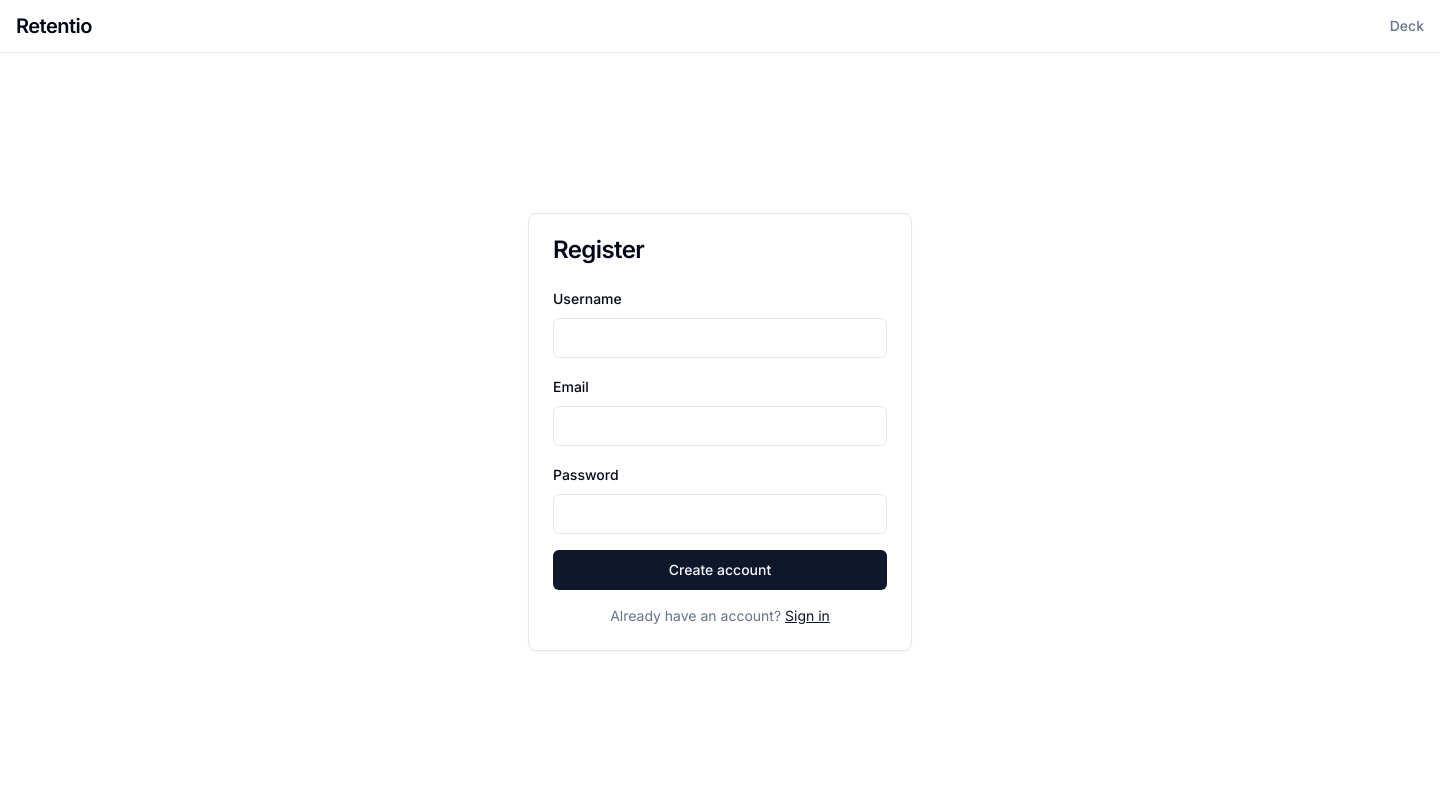
RegisterPage › shows an error message when registration fails
Step 1. Type "alice" into the field labelled "Username" → (720, 338), box [553,318,887,358]
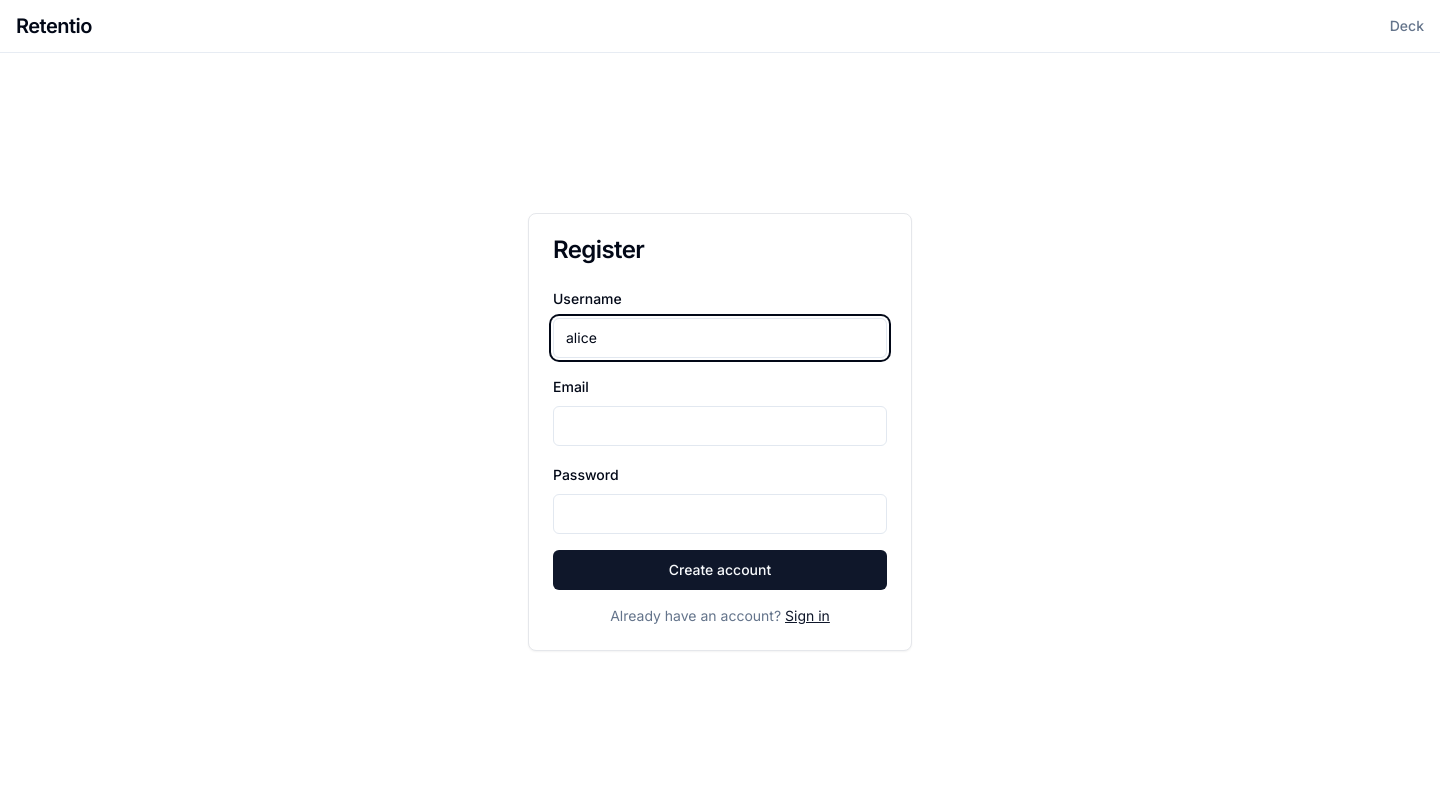
Step 2. Type "alice@example.com" into the field labelled "Email" → (720, 426), box [553,406,887,446]
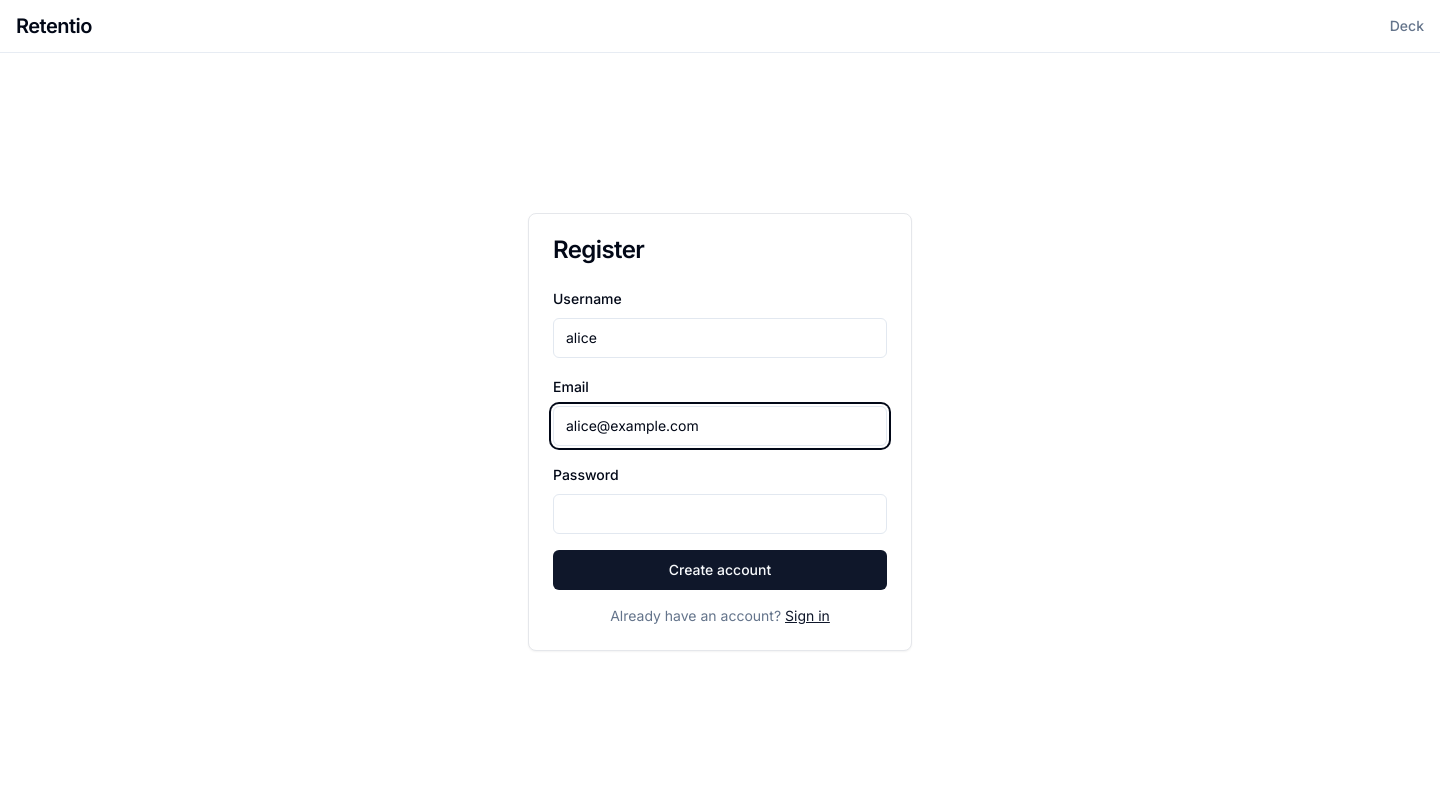
Step 3. Type "secret12" into the password field labelled "Password" → (720, 514), box [553,494,887,534]
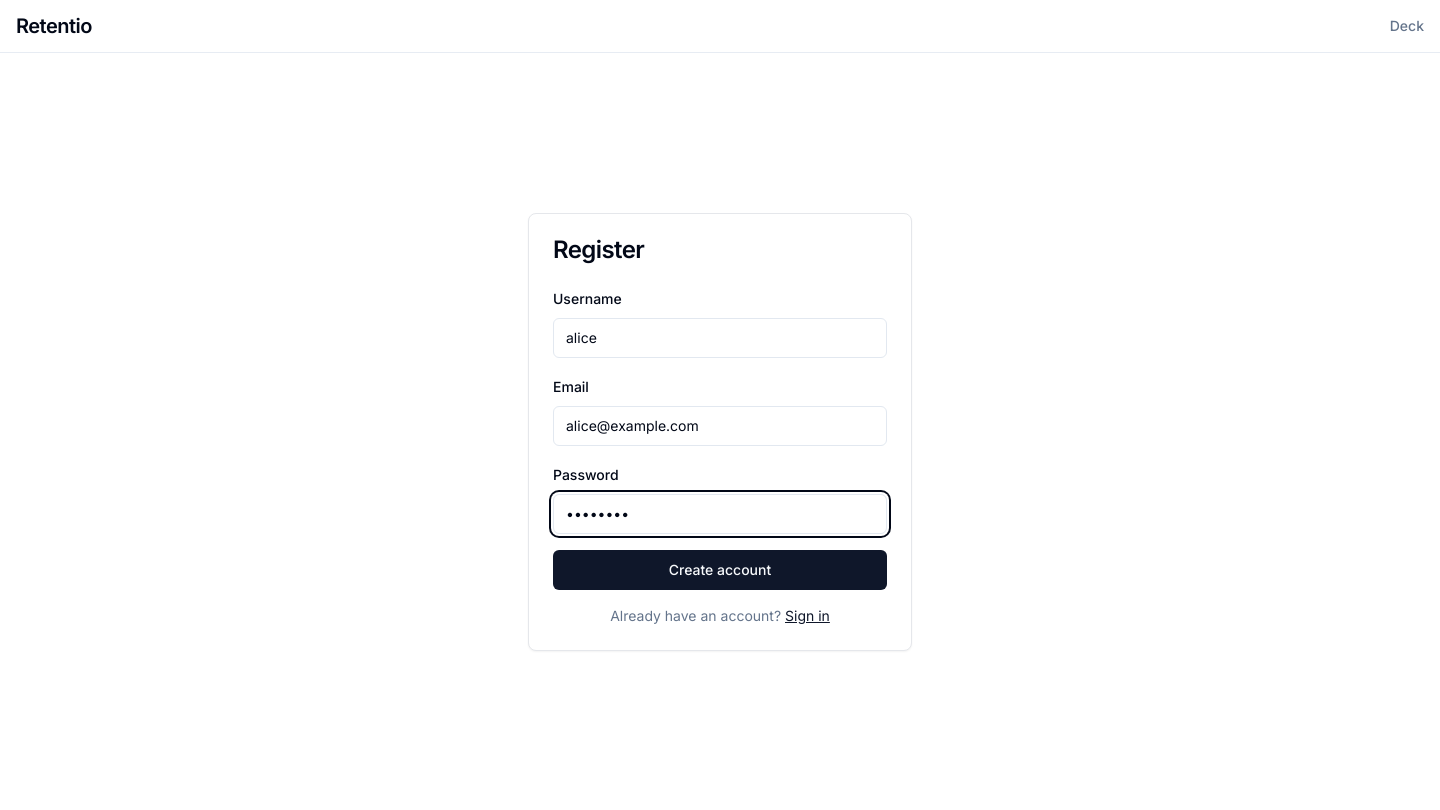
Step 4. Click the button "Create account" → (720, 570), box [553,550,887,590]
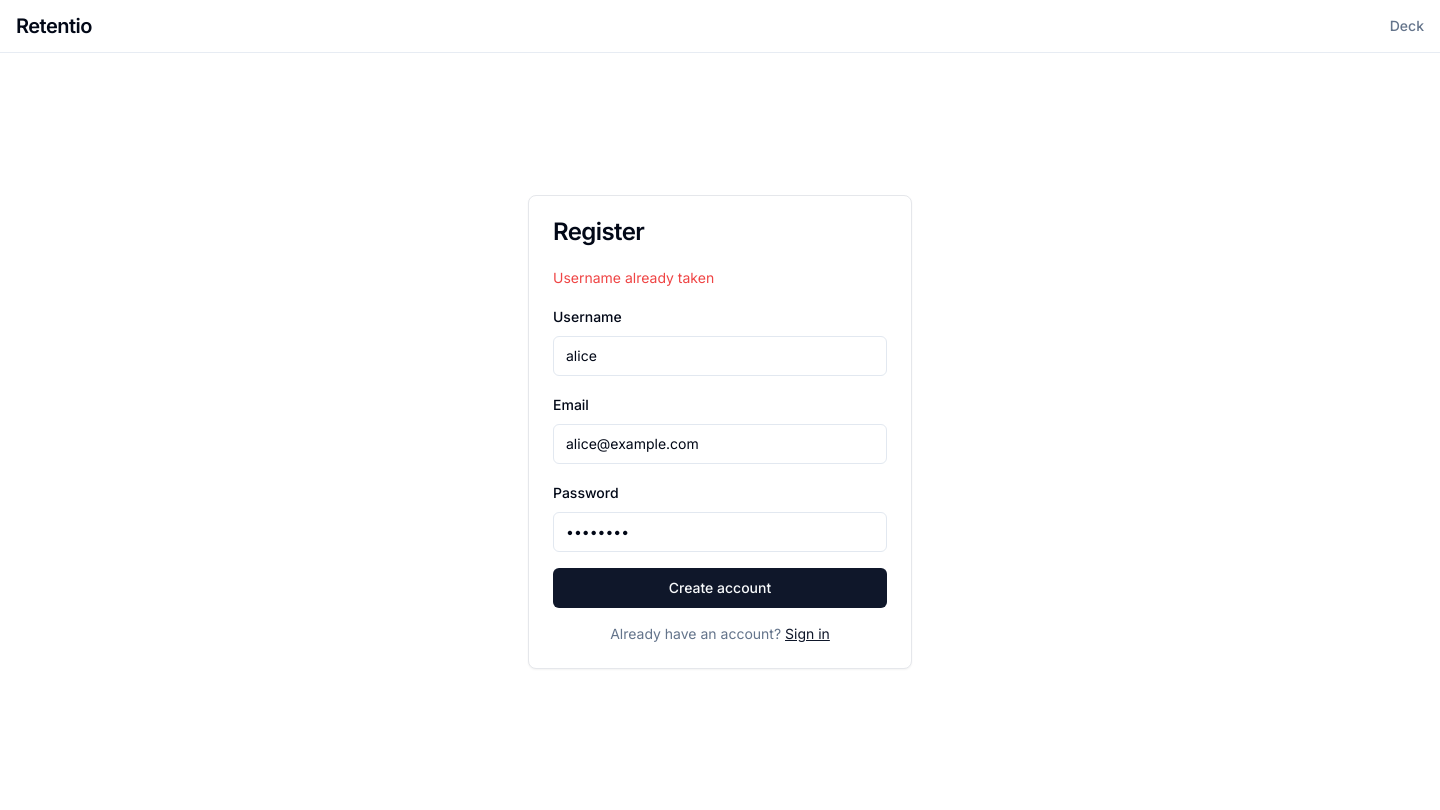
Expected: the text "Username already taken" is shown, [553,268,714,286]
